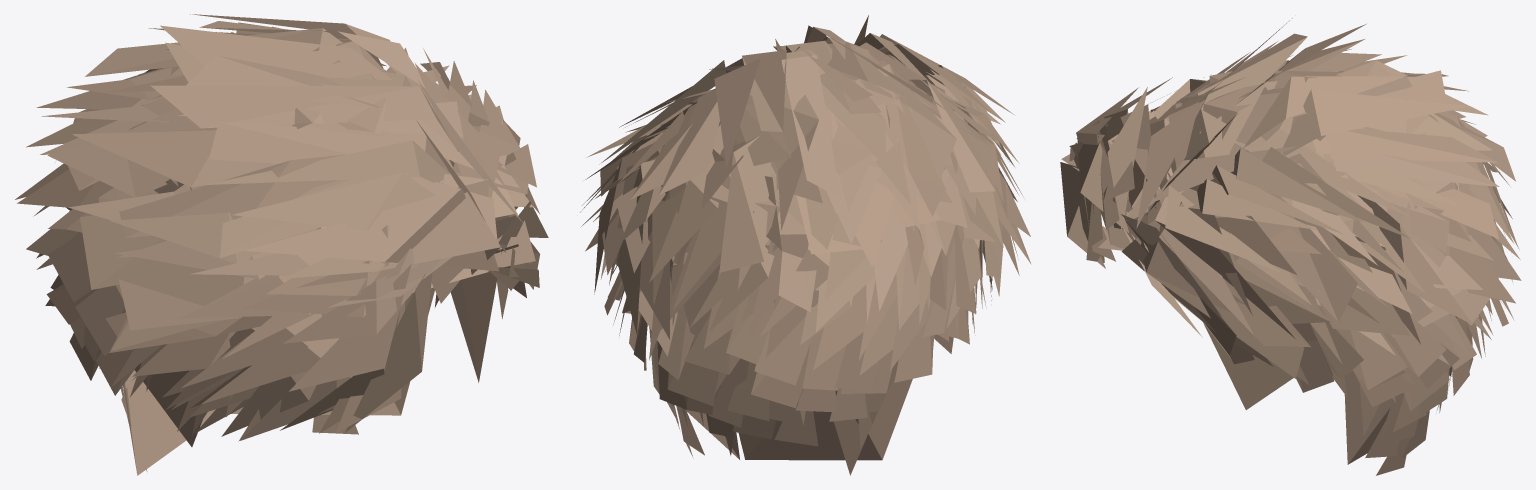
The model's file is male_hair_07_lod2.glb.
3 renders of one model, left to right at view 1: azimuth 30°, elevation 25°; view 2: azimuth 150°, elevation 25°; view 3: azimuth 270°, elevation 25°, orthographic. The views are drawn at different scales.
Parts seen in each view (by area): view 1: hair_07; view 2: hair_07; view 3: hair_07.
Part boxes in pixels (box(x1,y1,x2,y2)): hair_07: box(15, 14, 548, 475); hair_07: box(580, 15, 1031, 475); hair_07: box(1060, 18, 1521, 475).
Bounding box in the file's own units: 0.2089 × 0.2008 × 0.2237.
